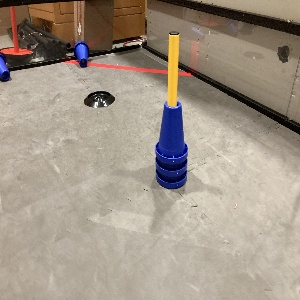Blue_1: (73, 40, 89, 67), (0, 52, 11, 80)
Blue_3: (154, 99, 187, 188)
